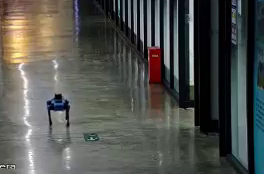robot dog: (44, 91, 71, 129)
